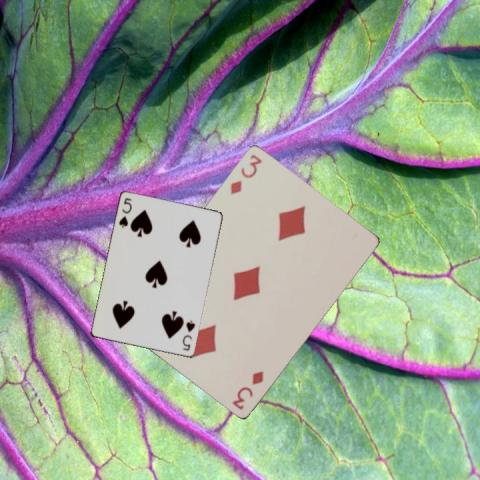3d: (227, 151, 263, 196), (230, 368, 266, 411)
5s: (179, 317, 197, 352), (116, 196, 133, 229)
